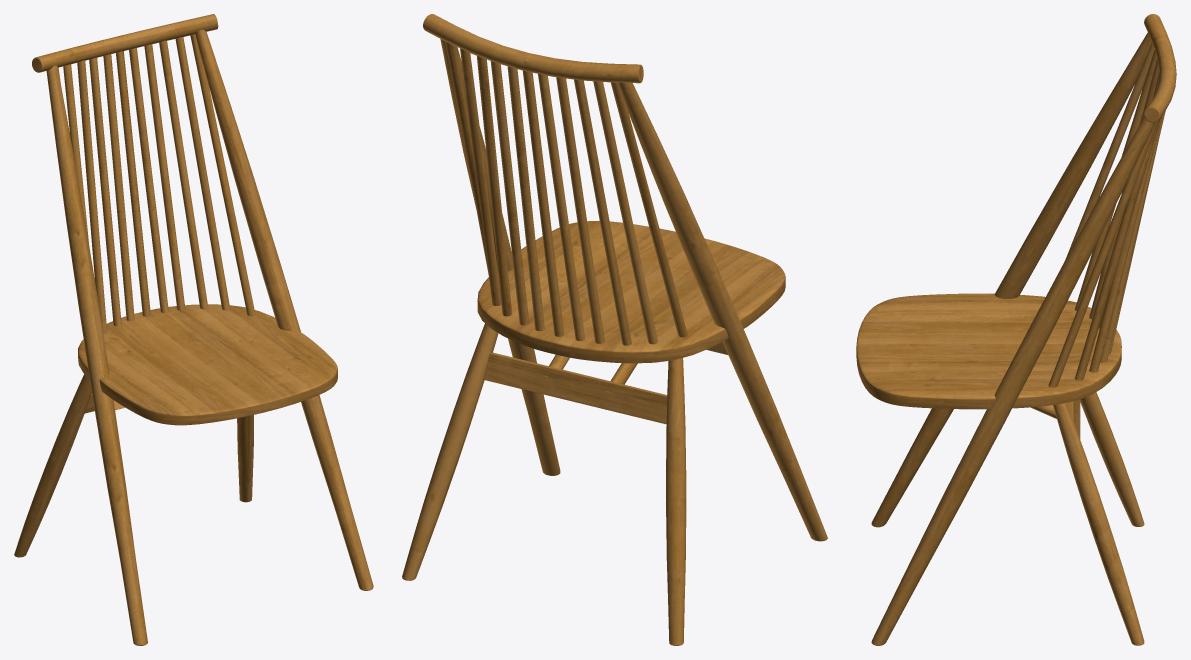
The model's file is chair_29.001.fbx.
The picture shows the model from 3 angles, left to right: view 1: azimuth 30°, elevation 25°; view 2: azimuth 150°, elevation 25°; view 3: azimuth 270°, elevation 25°; orthographic projection. The views are drawn at different scales.
Visible parts, largest first — view 1: chair_29.001; view 2: chair_29.001; view 3: chair_29.001.
Boxes of the visible parts, x1,y1,x2,y2 form: chair_29.001: (14,14,373,645); chair_29.001: (402,14,827,645); chair_29.001: (856,14,1176,645).
Size of the model in its own units: 47.27 by 92.06 by 51.02.
Materials: 1 (1 with a texture image).
